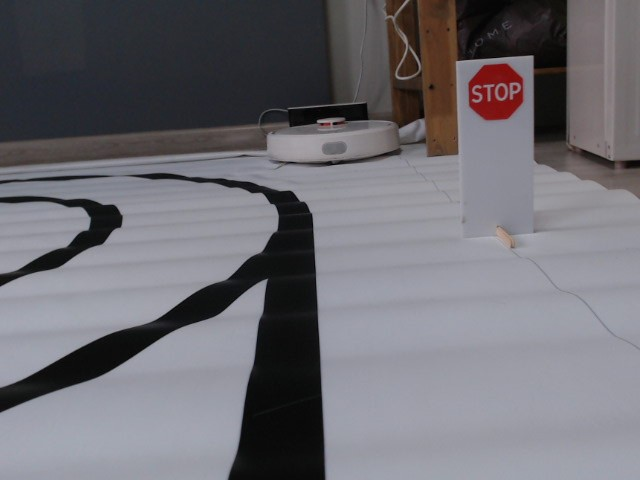Stop: (467, 63, 524, 121)
